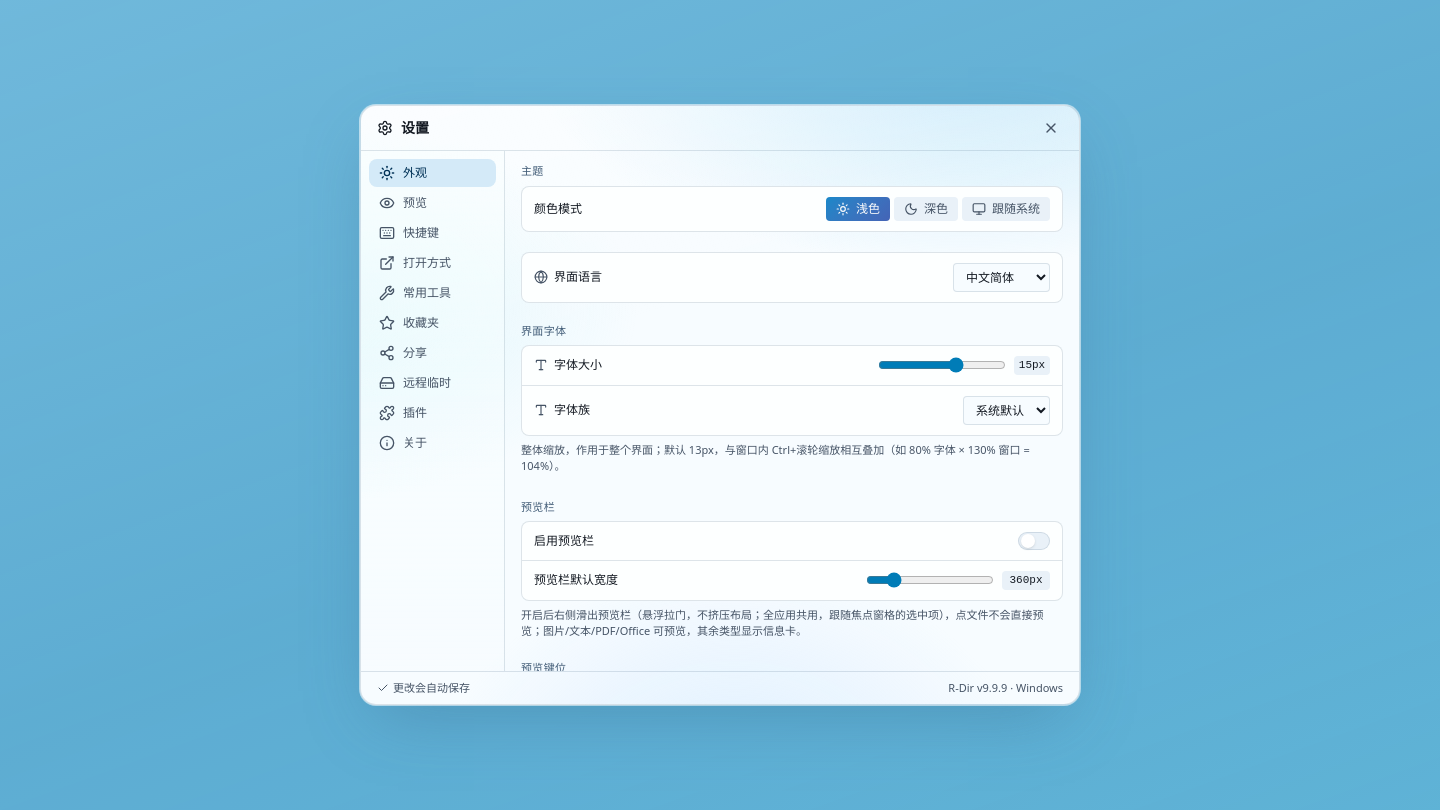
Test case: SettingsDialog 关于分区 › 显示应用名与版本（随 tag 同步）
Step 1. Click the button "打开方式" → coordinates (432, 263), box [369,249,496,277]
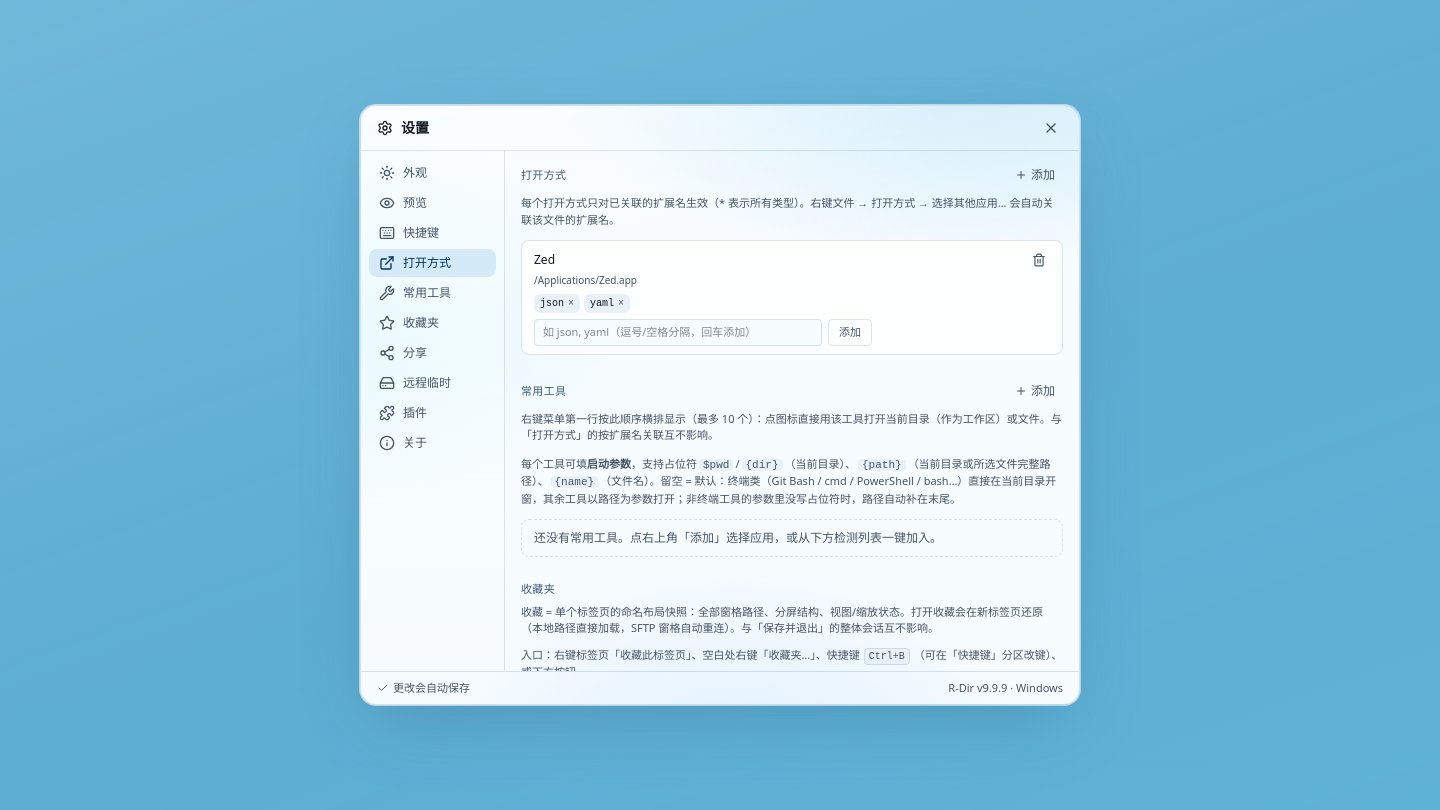
Step 2. Click the button "关于" → coordinates (432, 443), box [369,429,496,457]
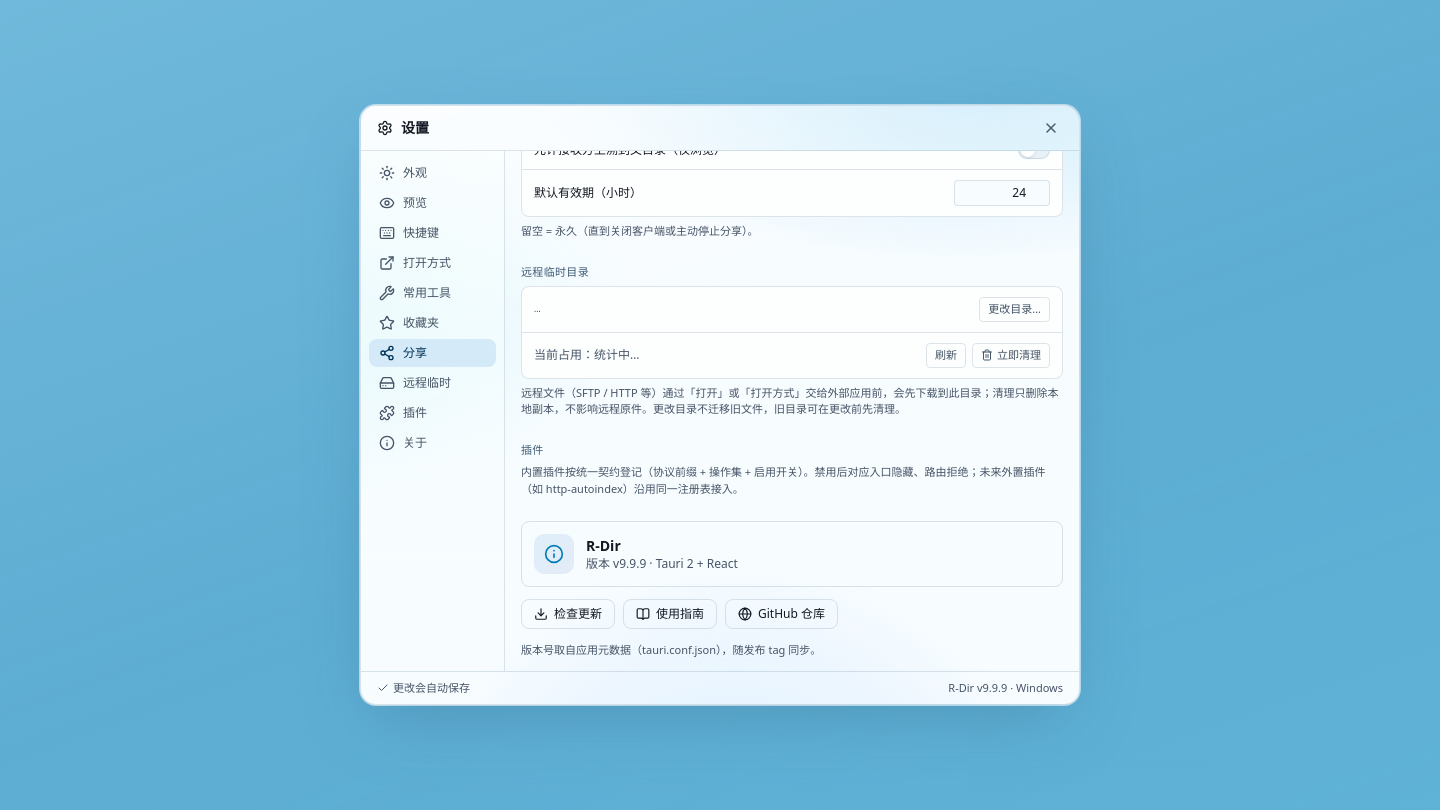
Now the text "版本 v9.9.9 · Tauri 2 + React" is shown, box [586,556,738,572]
